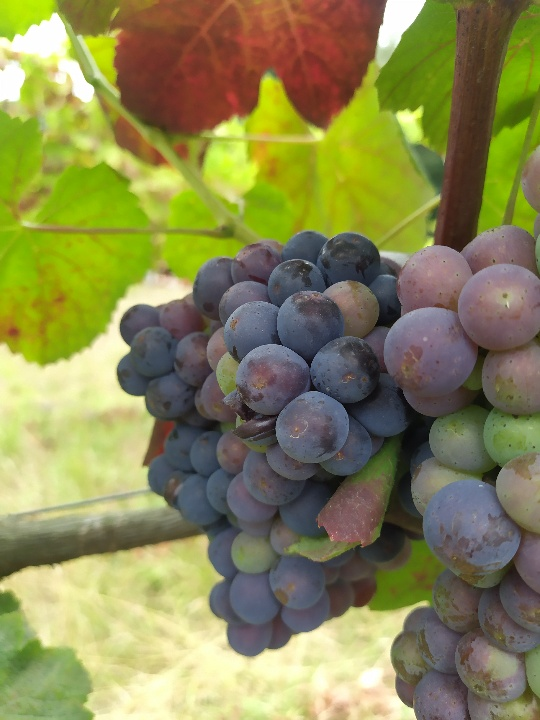grape: (113, 224, 451, 662)
